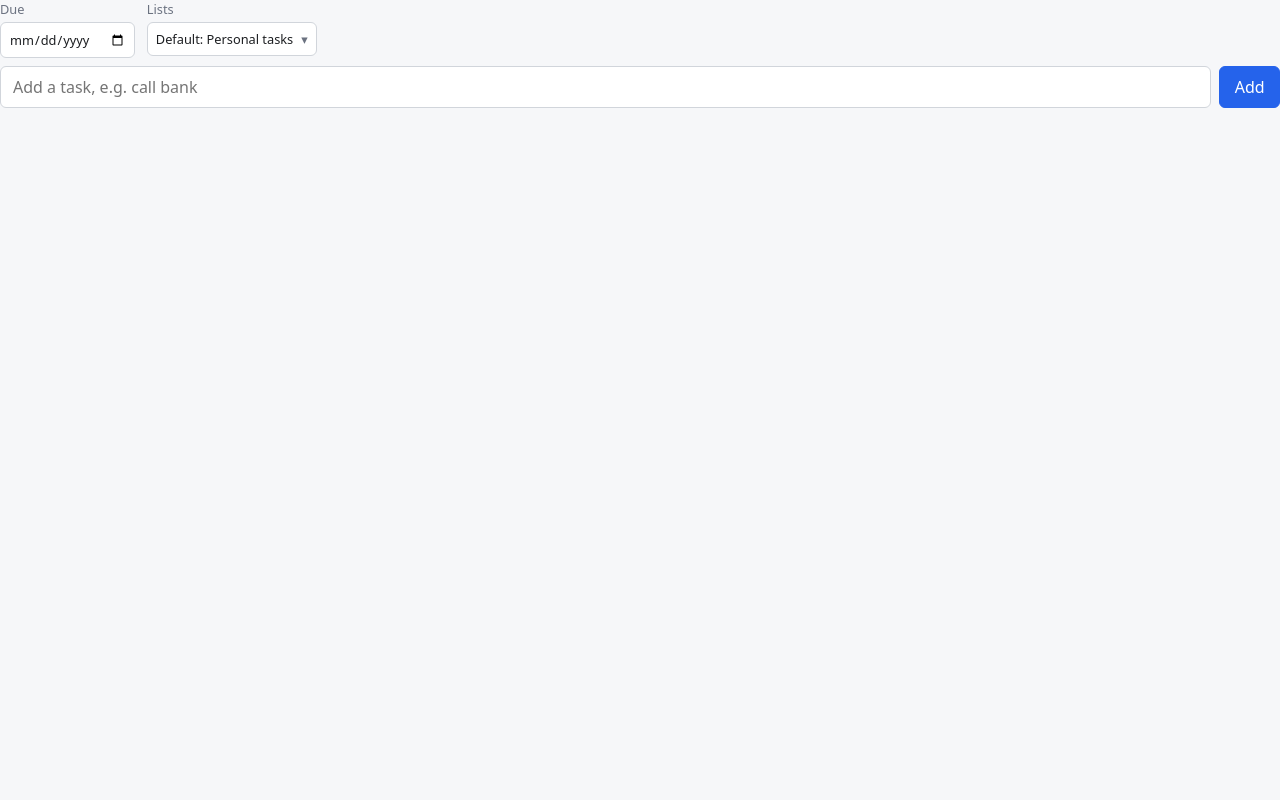
returns HA create cancellation to the same picker without writes (Cancel, compact=false)
Type "unsaved HA task" into the field named "New task" at (606, 87), box left=0, top=66, right=1211, bottom=108
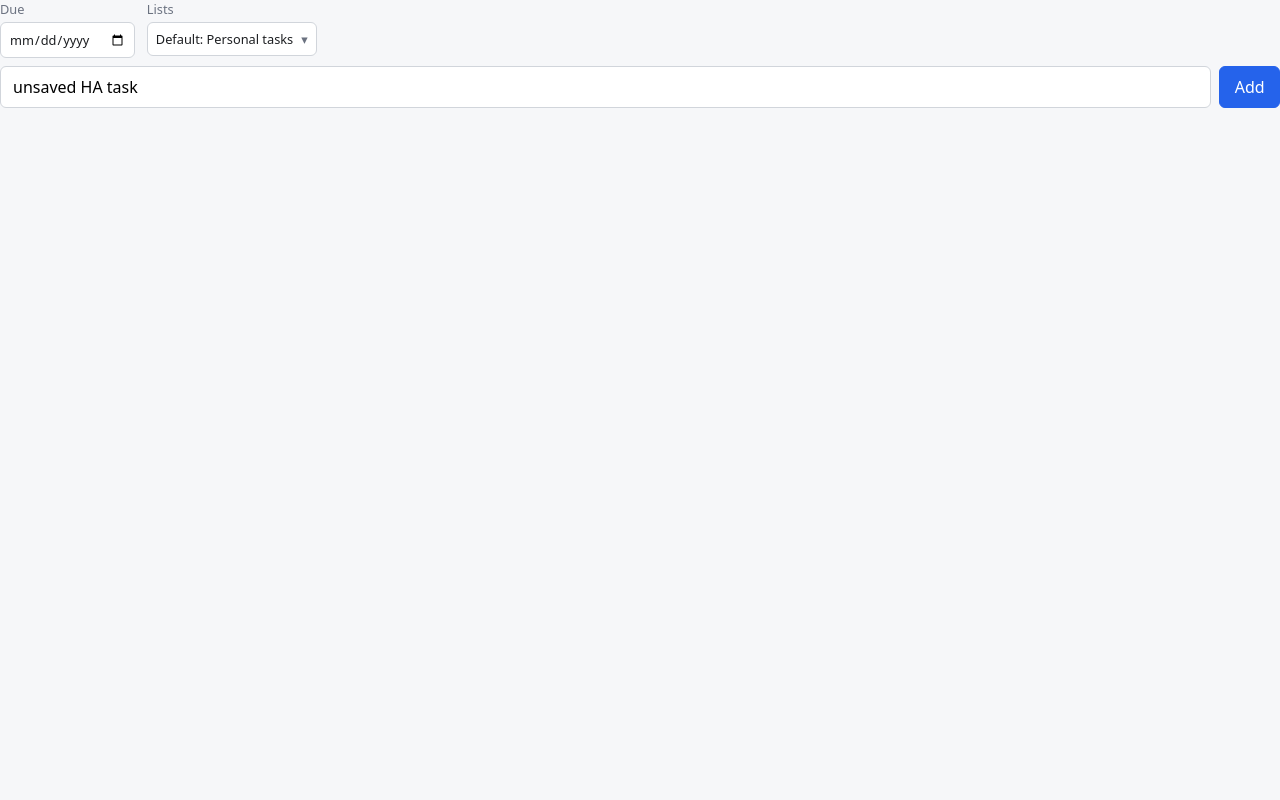
Click the button with aria-label "List" at (232, 39), box left=147, top=22, right=317, bottom=56
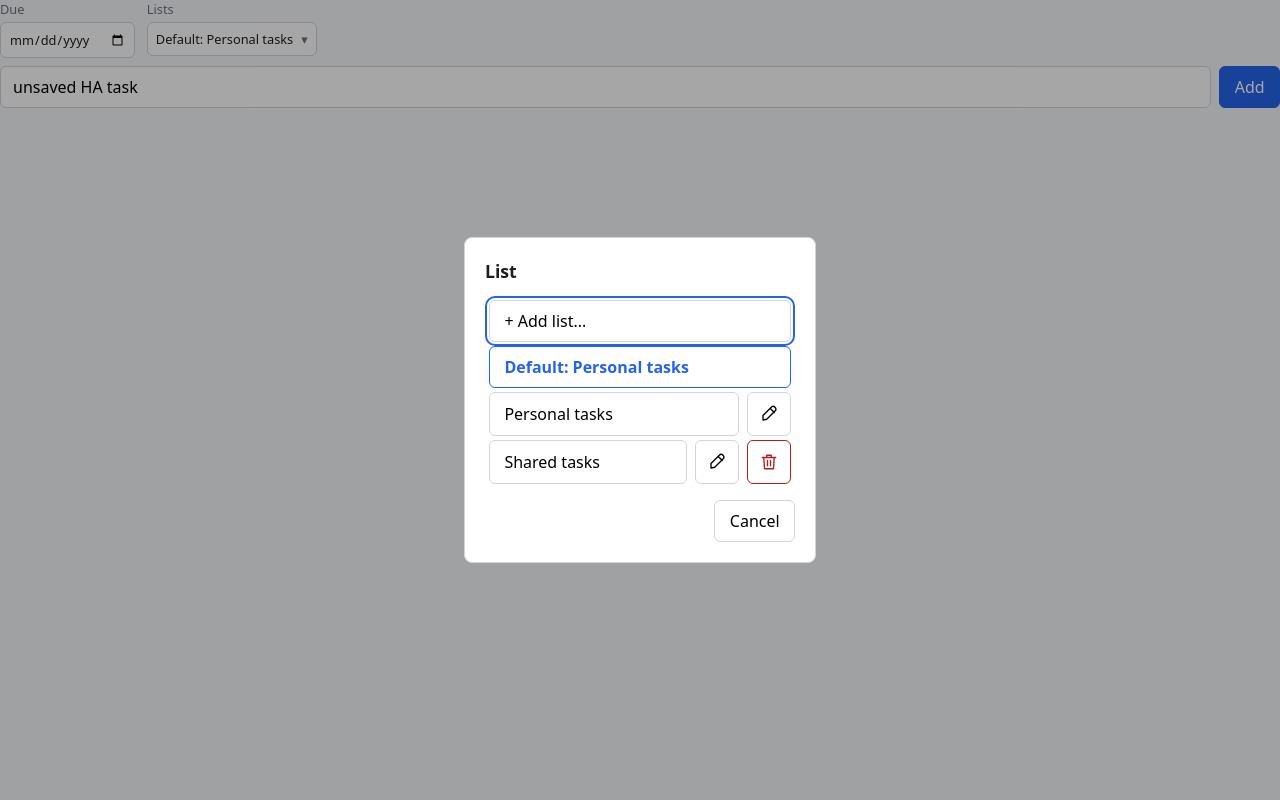
Click the button "Shared tasks" at (588, 462), box left=489, top=440, right=687, bottom=484
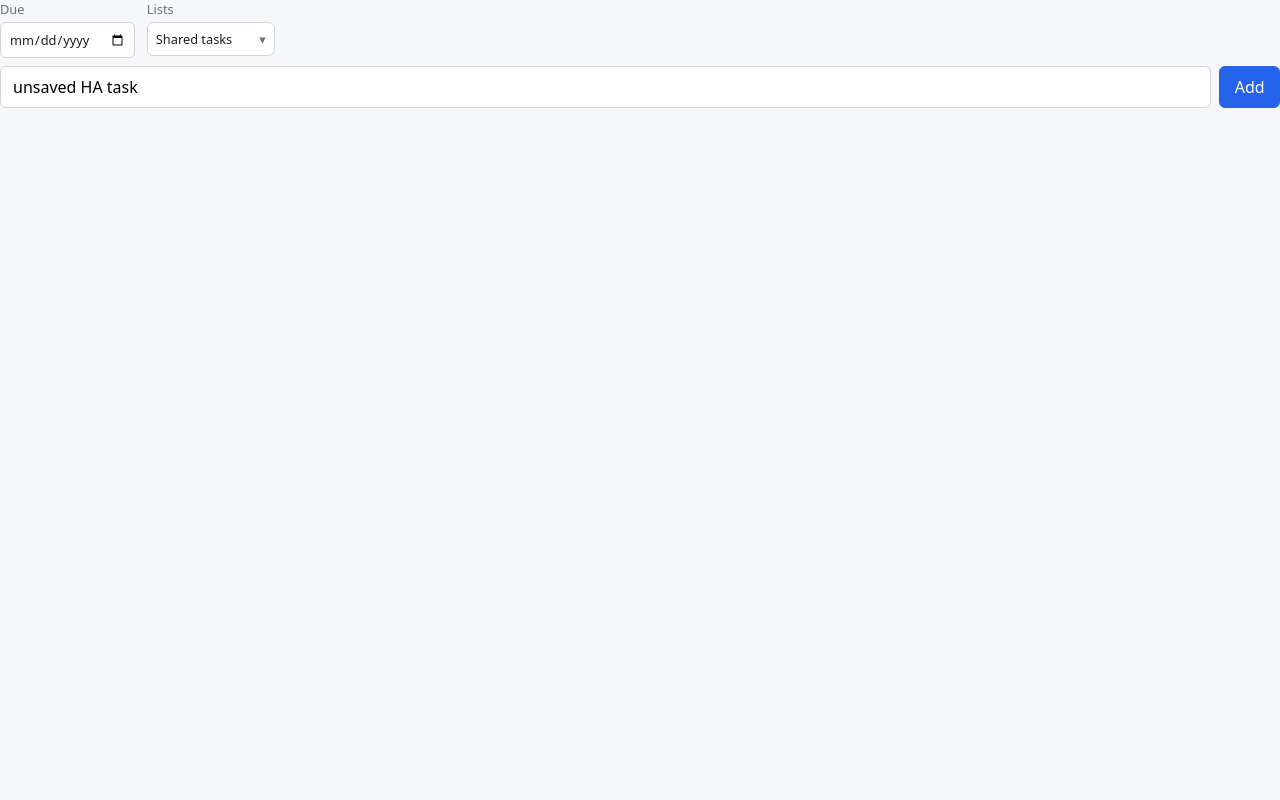
Click the button with aria-label "List" at (211, 39), box left=147, top=22, right=275, bottom=56
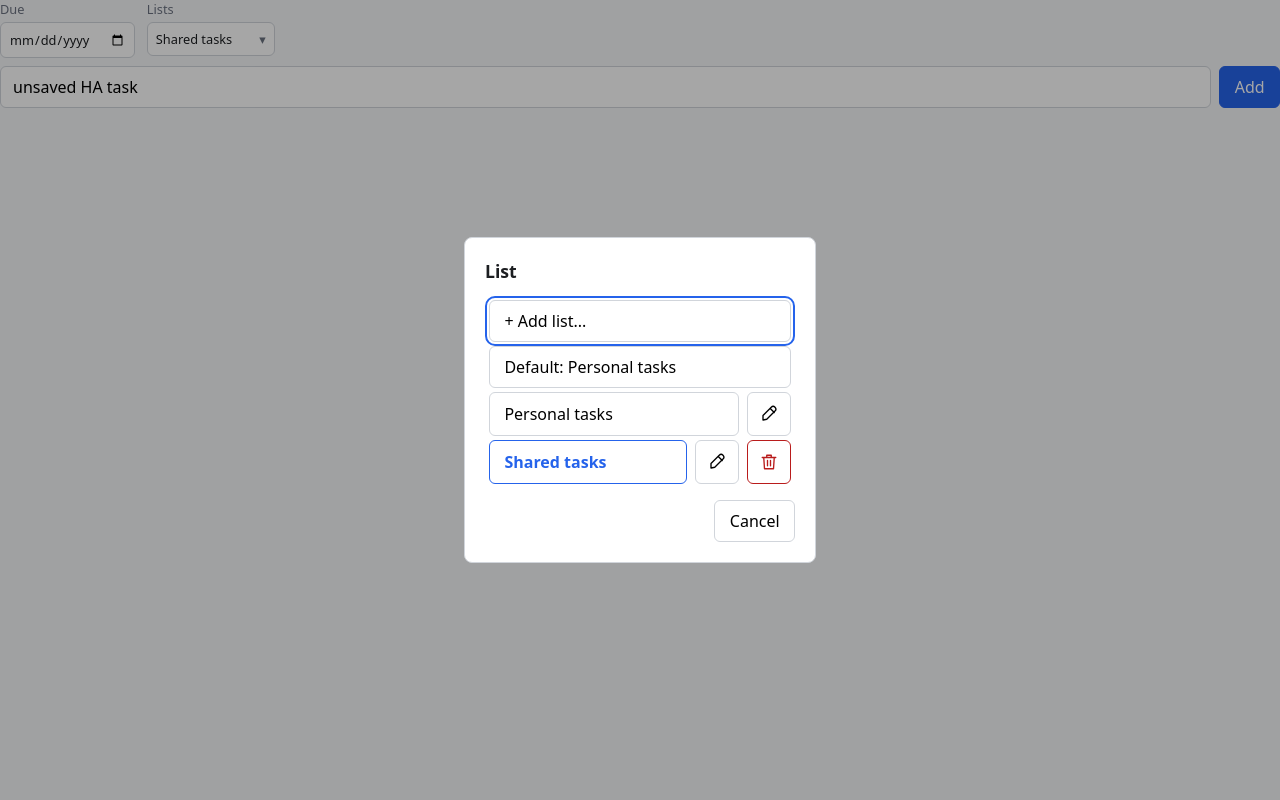
Click the button "+ Add list..." at (545, 321), box left=489, top=300, right=791, bottom=342
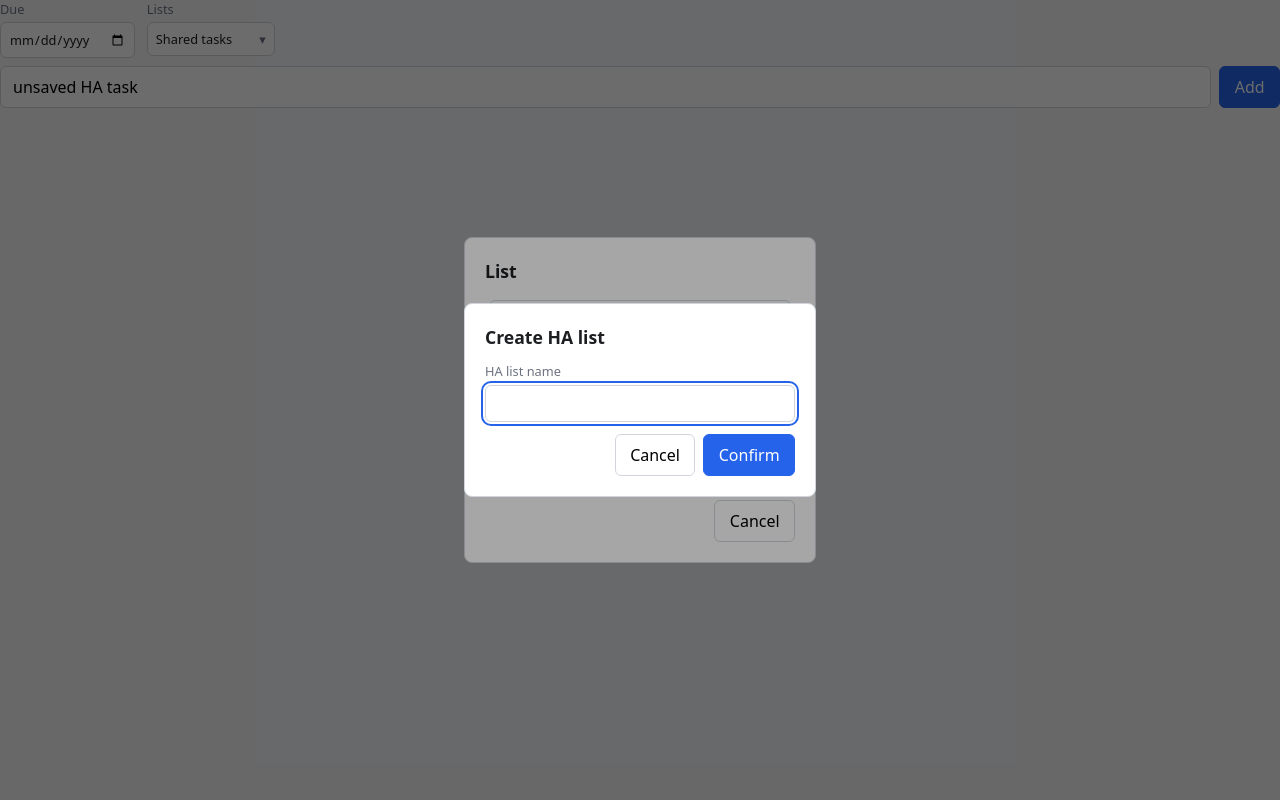
Click the button "Cancel" at (655, 455), box left=615, top=434, right=695, bottom=476
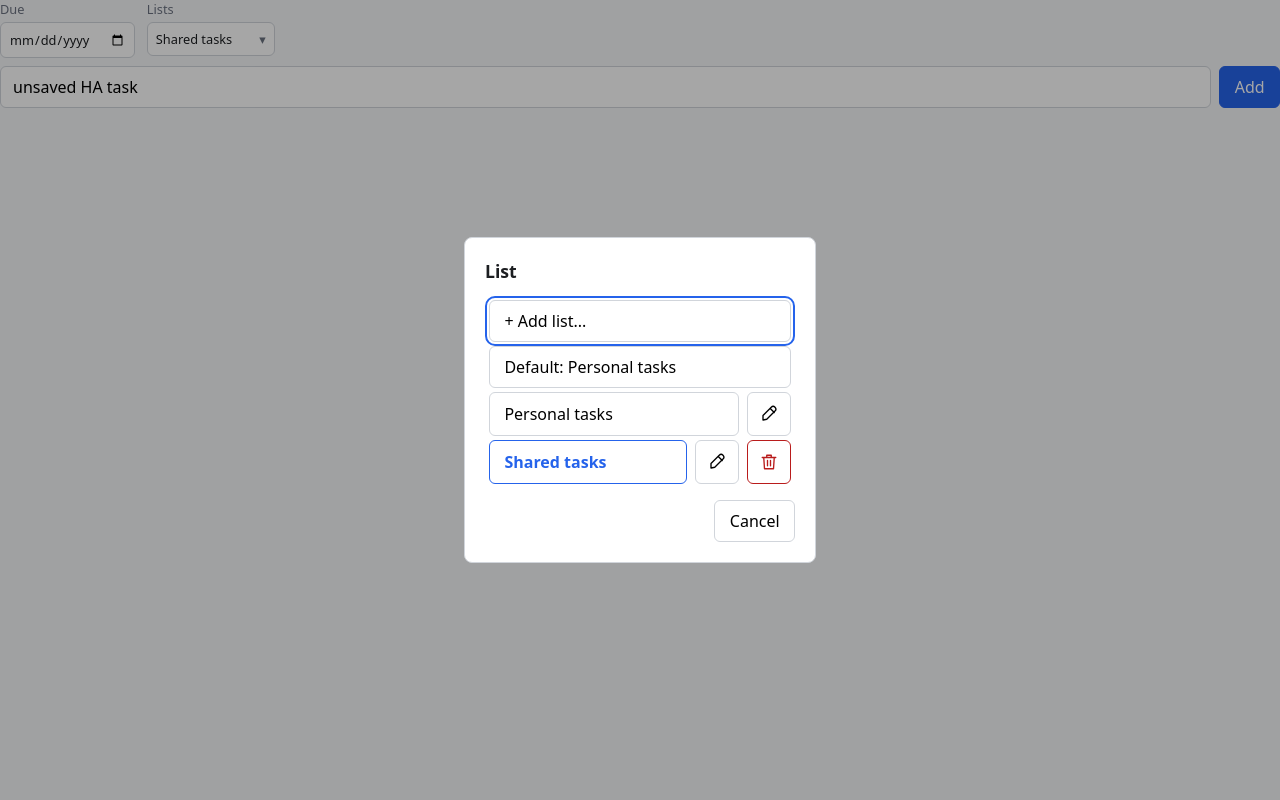
Result: the 2nd button "Shared tasks" is marked as current at left=489, top=440, right=687, bottom=484
